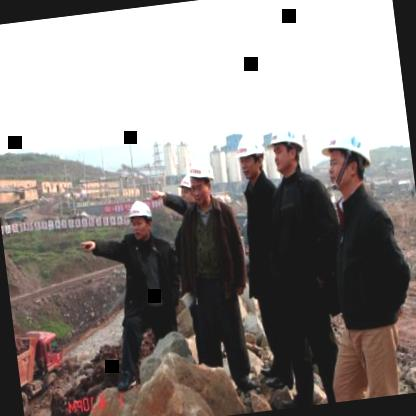helmet: (316, 115, 380, 198), (262, 116, 309, 176), (230, 128, 270, 184), (184, 150, 218, 205), (124, 194, 157, 244), (173, 171, 196, 214)
